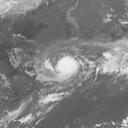cyclone: (52, 55, 85, 83)
